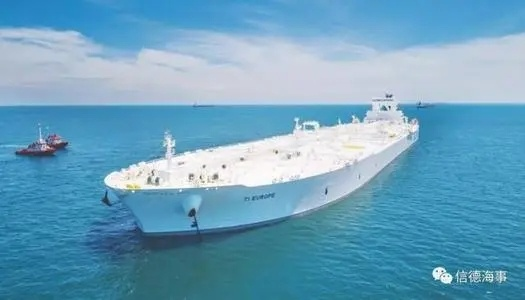Cargoship: (102, 90, 421, 235)
otherboat: (13, 132, 56, 160), (44, 129, 71, 146)
